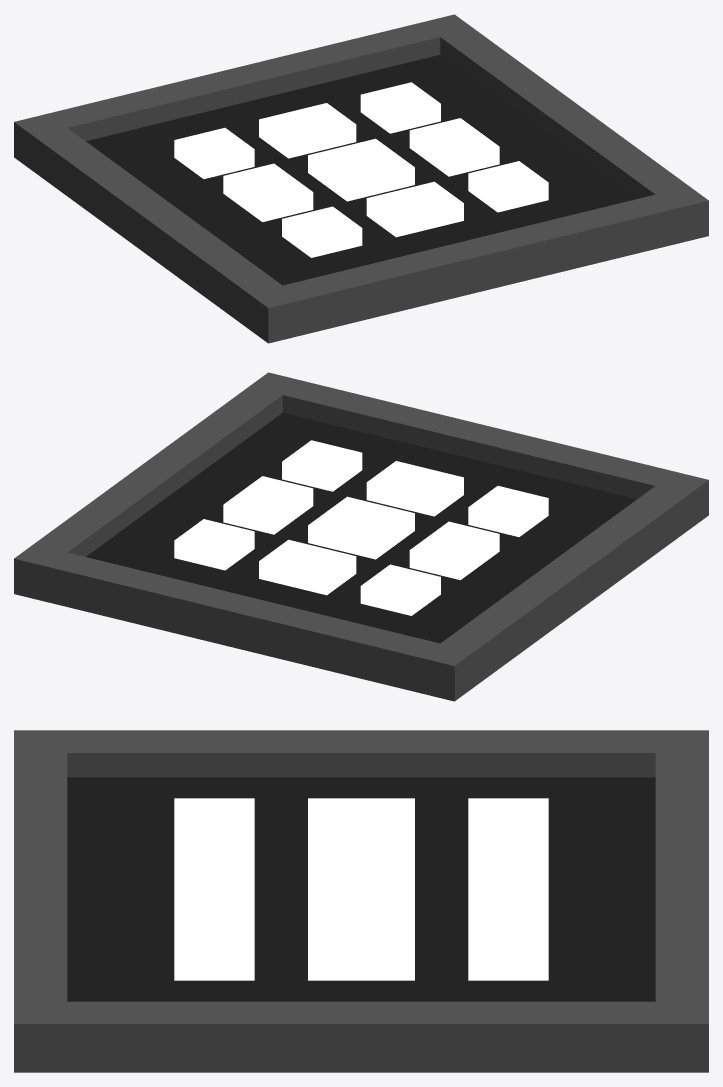
The model's file is trap_DOTS_WHITE.glb.
The picture shows the model from 3 angles, top to bottom: view 1: azimuth 30°, elevation 25°; view 2: azimuth 150°, elevation 25°; view 3: azimuth 270°, elevation 25°; orthographic projection. The views are drawn at different scales.
Parts seen in each view (by area): view 1: item_TRAP_DOTS_WHITE; view 2: item_TRAP_DOTS_WHITE; view 3: item_TRAP_DOTS_WHITE.
Part boxes in pixels (x1,y1,x2,y2): item_TRAP_DOTS_WHITE: (14, 14, 708, 343); item_TRAP_DOTS_WHITE: (14, 372, 708, 701); item_TRAP_DOTS_WHITE: (14, 730, 708, 1072).
Bounding box in the file's own units: 0.5909 × 0.0455 × 0.5909.
Materials: 1 (1 with a texture image).
